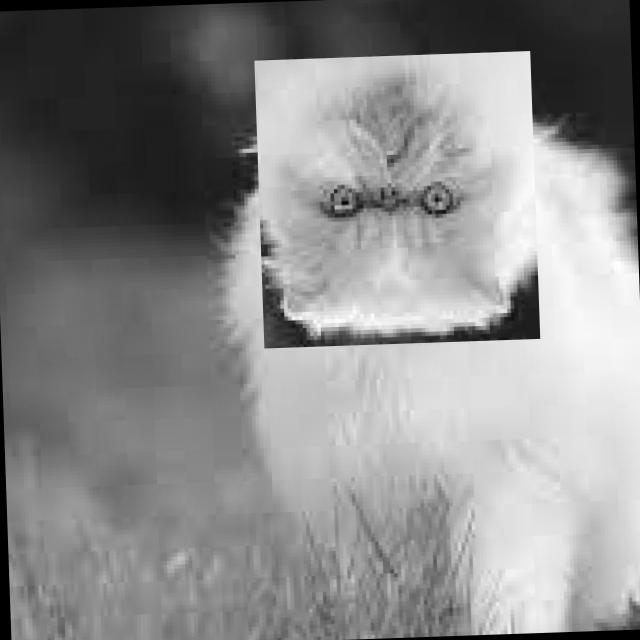iran: (254, 50, 540, 348)
